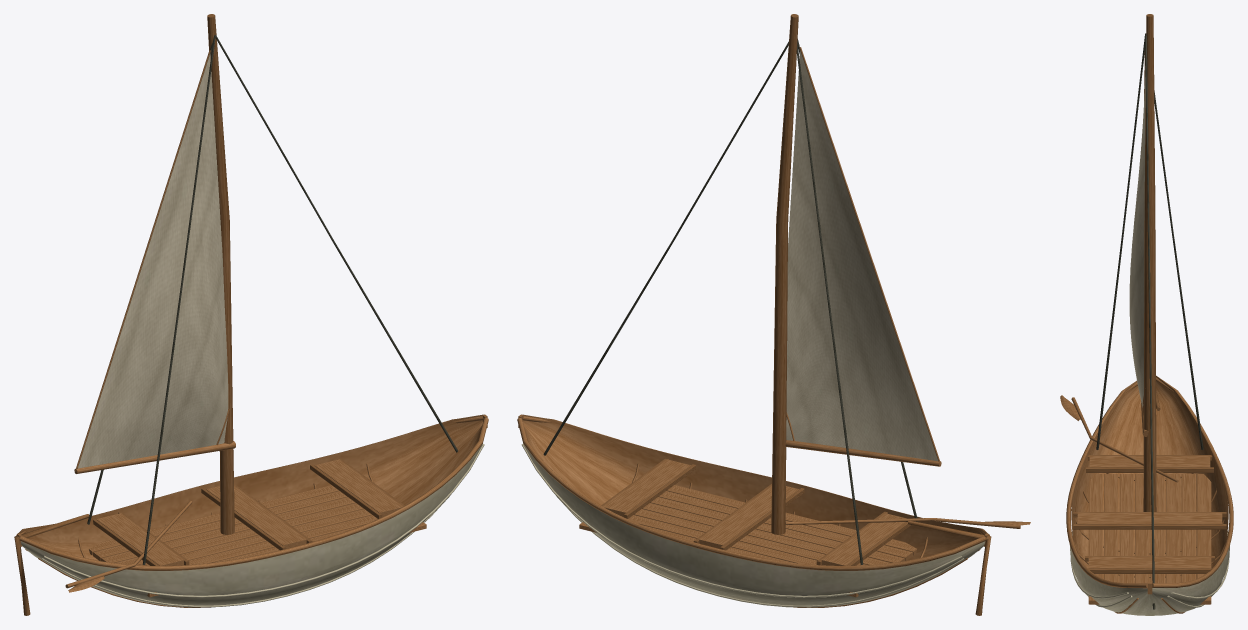
The model's file is alpine_sailboat.glb.
3 renders of one model, left to right at view 1: azimuth 30°, elevation 25°; view 2: azimuth 150°, elevation 25°; view 3: azimuth 270°, elevation 25°, orthographic. The views are drawn at different scales.
Parts seen in each view (by area): view 1: alpine_sailboat; view 2: alpine_sailboat; view 3: alpine_sailboat.
Part boxes in pixels (x1,y1,x2,y2): alpine_sailboat: (14, 14, 488, 615); alpine_sailboat: (517, 14, 1030, 615); alpine_sailboat: (1060, 14, 1233, 615).
Size of the model in its own units: 4.6 by 5.4 by 1.55.
Materials: 2 (2 with a texture image).
